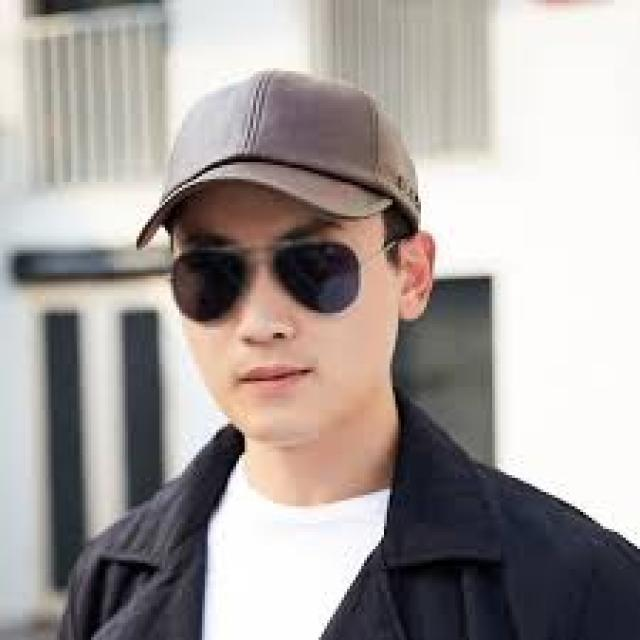cap: (108, 42, 440, 272)
